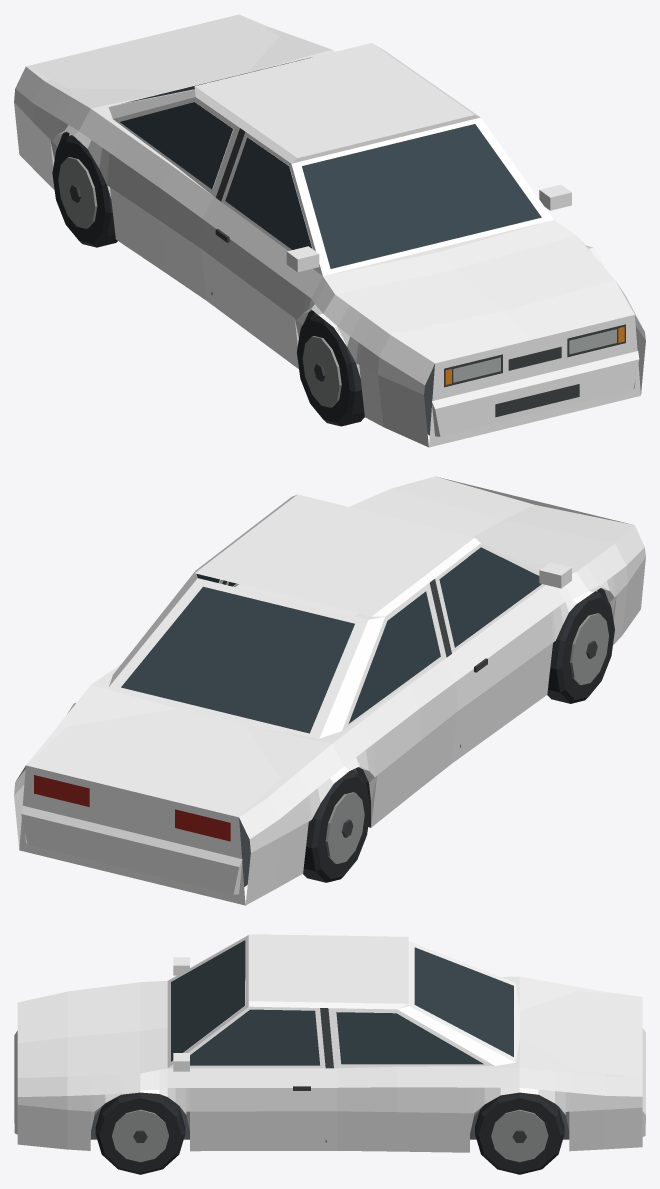
Rendered from kanaya_kagami.glb.
The picture shows the model from 3 angles, top to bottom: view 1: azimuth 30°, elevation 25°; view 2: azimuth 150°, elevation 25°; view 3: azimuth 270°, elevation 25°; orthographic projection. The views are drawn at different scales.
Visible parts, largest first — view 1: kanaya_kagami; view 2: kanaya_kagami; view 3: kanaya_kagami.
Part boxes in pixels (bbox=[...]): kanaya_kagami: bbox=[14, 14, 645, 447]; kanaya_kagami: bbox=[14, 476, 645, 905]; kanaya_kagami: bbox=[14, 934, 645, 1174].
Size of the model in its own units: 1.77 by 1.25 by 4.53.
Materials: 8 (1 with a texture image).
